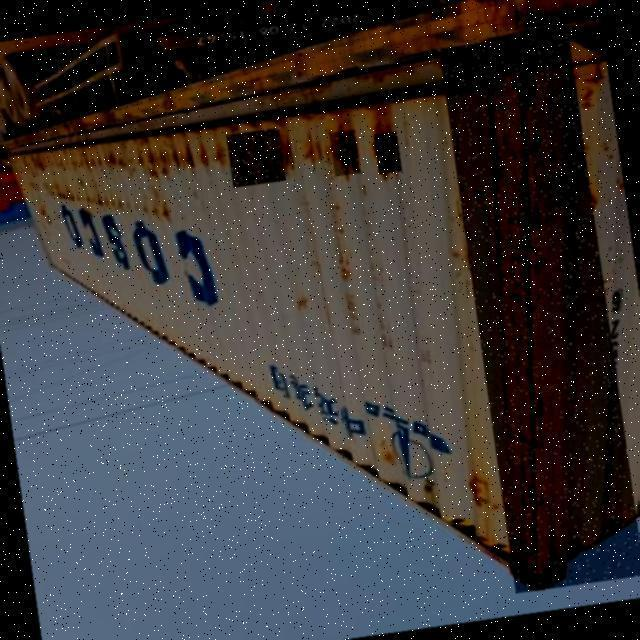rust: (486, 33, 569, 590), (228, 129, 288, 189), (330, 131, 362, 178), (375, 133, 403, 176)
